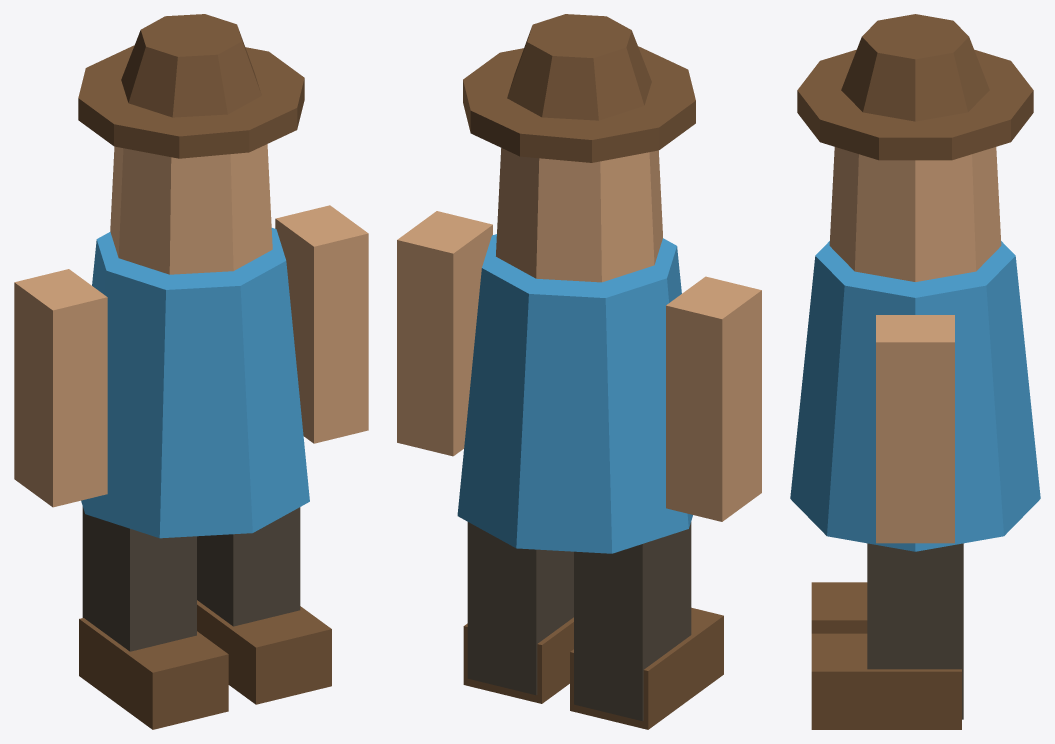
Rendered from settler.glb.
The picture shows the model from 3 angles, left to right: view 1: azimuth 30°, elevation 25°; view 2: azimuth 150°, elevation 25°; view 3: azimuth 270°, elevation 25°; orthographic projection. The views are drawn at different scales.
Visible parts, largest first — view 1: Body, Arm L, Head, Arm R, Hat brim, Leg L, Hat, Boot, Leg R, Boot.001; view 2: Body, Arm L, Head, Arm R, Leg L, Hat brim, Leg R, Hat, Boot, Boot.001; view 3: Body, Head, Arm R, Hat brim, Leg R, Hat, Boot.001, Boot.
Part boxes in pixels (x1=…): Body: x1=81, y1=228, x2=309, y2=538; Arm L: x1=14, y1=269, x2=107, y2=507; Head: x1=110, y1=144, x2=272, y2=274; Arm R: x1=275, y1=205, x2=368, y2=443; Hat brim: x1=78, y1=45, x2=304, y2=158; Leg L: x1=82, y1=506, x2=196, y2=651; Hat: x1=121, y1=14, x2=261, y2=117; Boot: x1=79, y1=618, x2=228, y2=729; Leg R: x1=197, y1=507, x2=300, y2=626; Boot.001: x1=197, y1=600, x2=331, y2=704; Body: x1=457, y1=234, x2=692, y2=553; Arm L: x1=666, y1=276, x2=761, y2=521; Head: x1=496, y1=148, x2=662, y2=282; Arm R: x1=397, y1=211, x2=492, y2=456; Leg L: x1=574, y1=522, x2=691, y2=721; Hat brim: x1=463, y1=46, x2=695, y2=162; Leg R: x1=467, y1=522, x2=573, y2=695; Hat: x1=507, y1=14, x2=651, y2=120; Boot: x1=570, y1=607, x2=723, y2=729; Boot.001: x1=463, y1=617, x2=573, y2=703; Body: x1=790, y1=241, x2=1040, y2=551; Head: x1=829, y1=147, x2=1001, y2=281; Arm R: x1=876, y1=315, x2=954, y2=543; Hat brim: x1=797, y1=49, x2=1033, y2=160; Leg R: x1=867, y1=543, x2=963, y2=719; Hat: x1=841, y1=14, x2=989, y2=121; Boot.001: x1=811, y1=633, x2=961, y2=729; Boot: x1=811, y1=582, x2=867, y2=633.
Bounding box in the file's own units: 1.04 × 2 × 0.7.
